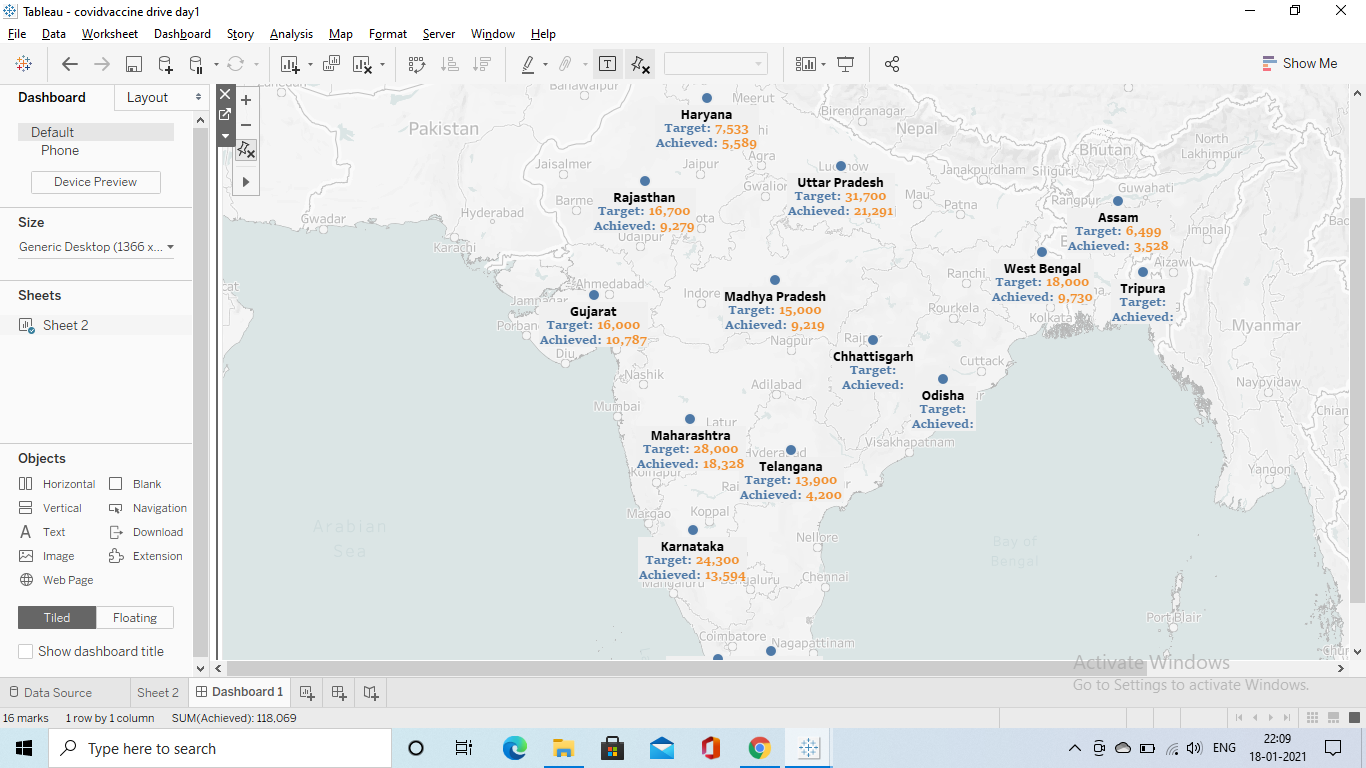

The page's visual inventory and layout, read from the dashboard file:
{"tool":"tableau","page":{"name":"Dashboard 1","canvas":[1000,800],"ordinal":0},"visuals":[{"type":"worksheet","box":[0,0,1000,800]},{"type":"worksheet","title":"Sheet 2","mark":"Automatic","box":[8,8,984,784]}]}

Visuals, with their boxes on the page's 1000x800 design canvas (x1, y1, x2, y2). These are canvas units, not pixel positions in the 1366x768 screenshot, which may show the page scaled, cropped or inside an application window:
worksheet: bbox=[0, 0, 1000, 800]
"Sheet 2" worksheet: bbox=[8, 8, 992, 792]
